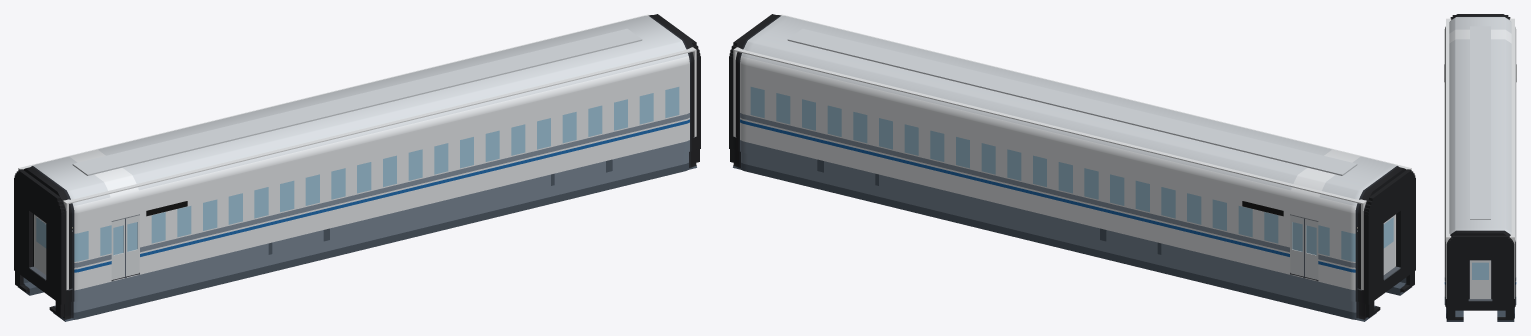
Rendered from crrc600_car.obj.
3 renders of one model, left to right at view 1: azimuth 30°, elevation 25°; view 2: azimuth 150°, elevation 25°; view 3: azimuth 270°, elevation 25°, orthographic. The views are drawn at different scales.
Parts seen in each view (by area): view 1: SHELL, SHELL_roof, SHELL_diaphragm, SHELL_ceiling, EXTERNAL_DOOR_4_CG_DR1_TOGGLE_TL_-0.49_X, EXTERNAL_DOOR_5_CG_DR1_TOGGLE_TL_0.49_X, CONNECTING_DOOR_1_CG_CR_TOGGLE_TL_0.98_Z, SHELL_end; view 2: SHELL, SHELL_roof, SHELL_diaphragm, SHELL_ceiling, EXTERNAL_DOOR_7_CG_DL1_TOGGLE_TL_-0.49_X, EXTERNAL_DOOR_8_CG_DL1_TOGGLE_TL_0.49_X, CONNECTING_DOOR_1_CG_CR_TOGGLE_TL_0.98_Z, SHELL_end; view 3: SHELL, SHELL_diaphragm, SHELL_roof, SHELL_ceiling, CONNECTING_DOOR_2_CG_CF_TOGGLE_TL_0.98_Z, SHELL_end, SHELL_floor.
Part boxes in pixels (x1,y1,x2,y2): SHELL: (18,14,697,321); SHELL_roof: (72,28,642,175); SHELL_diaphragm: (14,14,700,317); SHELL_ceiling: (21,15,694,203); EXTERNAL_DOOR_4_CG_DR1_TOGGLE_TL_-0.49_X: (111,218,125,279); EXTERNAL_DOOR_5_CG_DR1_TOGGLE_TL_0.49_X: (126,215,139,276); CONNECTING_DOOR_1_CG_CR_TOGGLE_TL_0.98_Z: (35,215,46,274); SHELL_end: (18,14,696,289); SHELL: (732,14,1411,321); SHELL_roof: (787,28,1357,175); SHELL_diaphragm: (729,14,1415,317); SHELL_ceiling: (735,15,1409,203); EXTERNAL_DOOR_7_CG_DL1_TOGGLE_TL_-0.49_X: (1304,218,1318,279); EXTERNAL_DOOR_8_CG_DL1_TOGGLE_TL_0.49_X: (1290,215,1303,276); CONNECTING_DOOR_1_CG_CR_TOGGLE_TL_0.98_Z: (1383,215,1394,274); SHELL_end: (733,14,1411,289); SHELL: (1444,14,1516,321); SHELL_diaphragm: (1446,15,1514,320); SHELL_roof: (1470,26,1490,219); SHELL_ceiling: (1446,19,1514,236); CONNECTING_DOOR_2_CG_CF_TOGGLE_TL_0.98_Z: (1470,260,1490,298); SHELL_end: (1446,18,1514,298); SHELL_floor: (1469,260,1491,297).
Bounding box in the file's own units: 24.92 × 4.68 × 3.42.
1 material, 1 textured.
